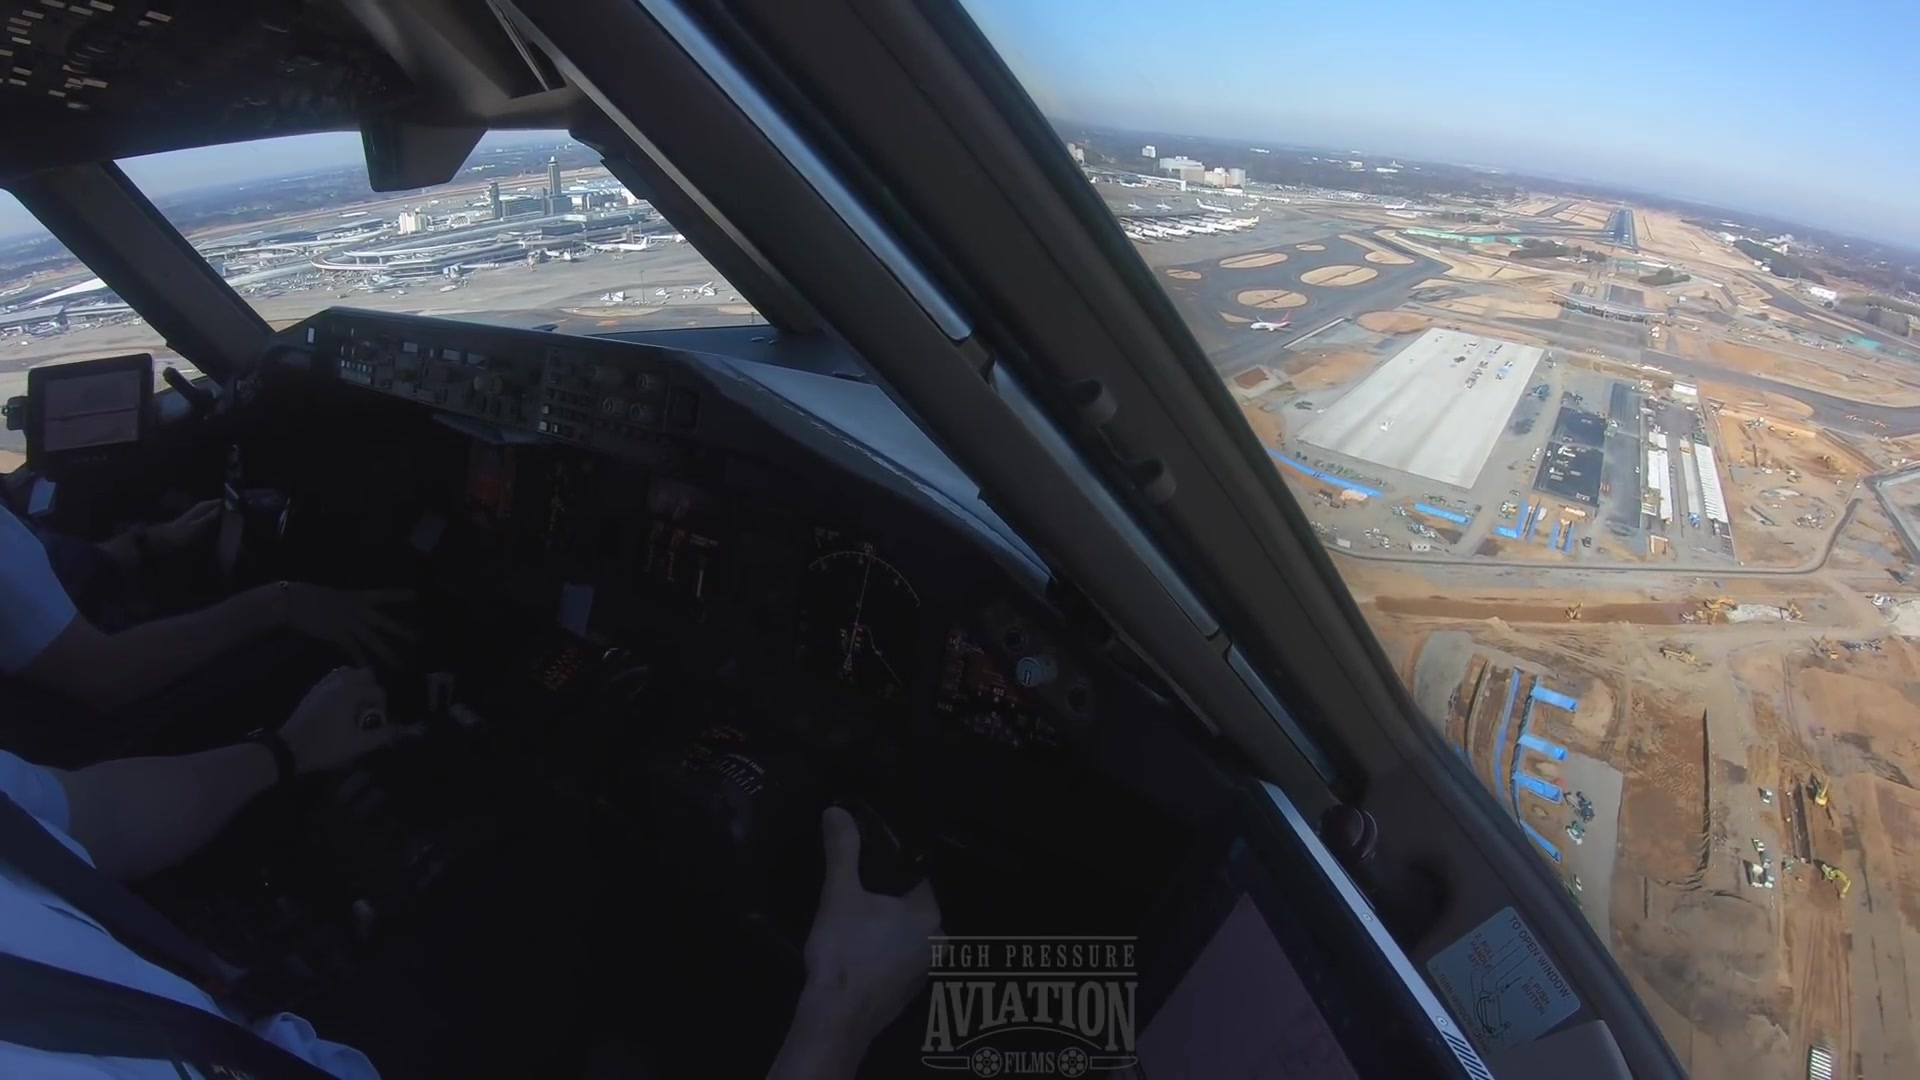runway: (1598, 210, 1636, 249)
